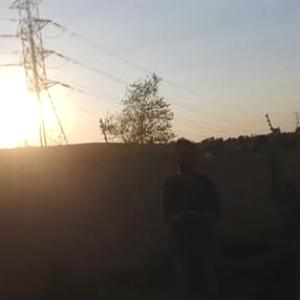follow: (146, 129, 224, 299)
